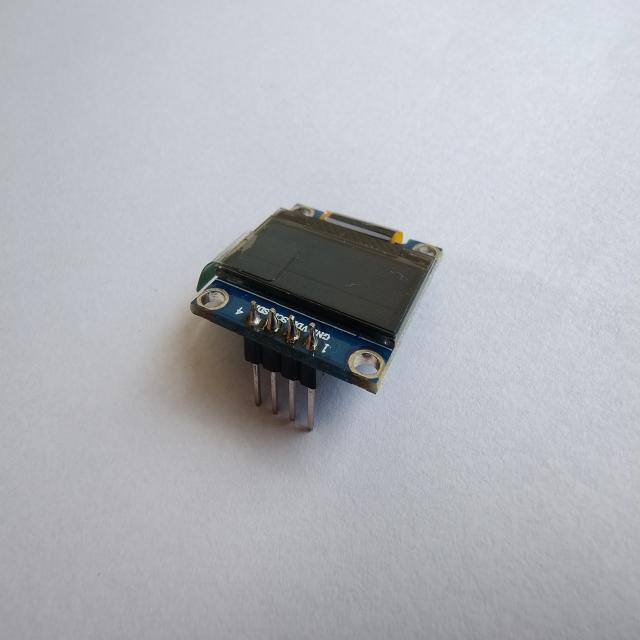oled: (188, 188, 449, 446)
